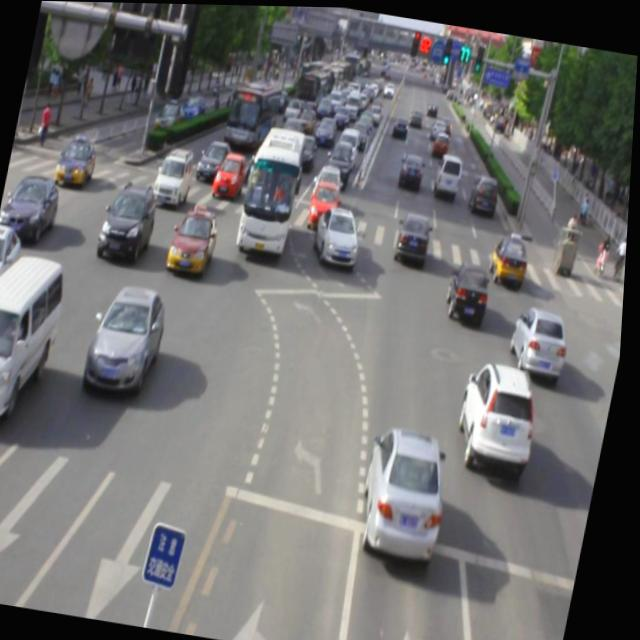car: (360, 421, 458, 560), (86, 278, 174, 397), (458, 356, 548, 471), (99, 179, 162, 261), (512, 301, 575, 372), (168, 203, 222, 277), (312, 205, 367, 270), (445, 255, 497, 323), (152, 142, 200, 208), (490, 231, 533, 283), (396, 208, 435, 264)
truck: (0, 250, 67, 429)
van: (237, 123, 310, 259)
